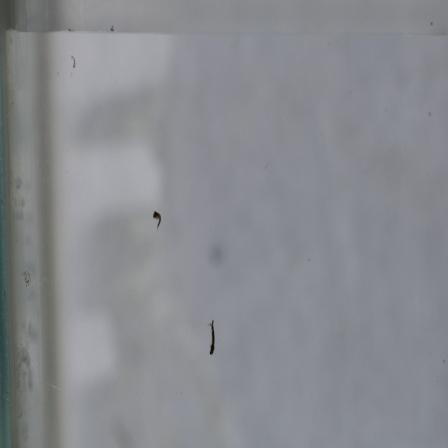Jentik-Nyamuk: (203, 318, 220, 358), (148, 207, 165, 231)
